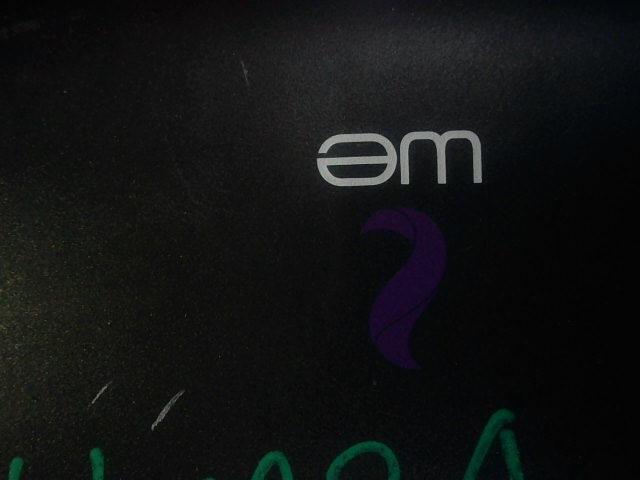AT_We: (306, 124, 486, 365)
